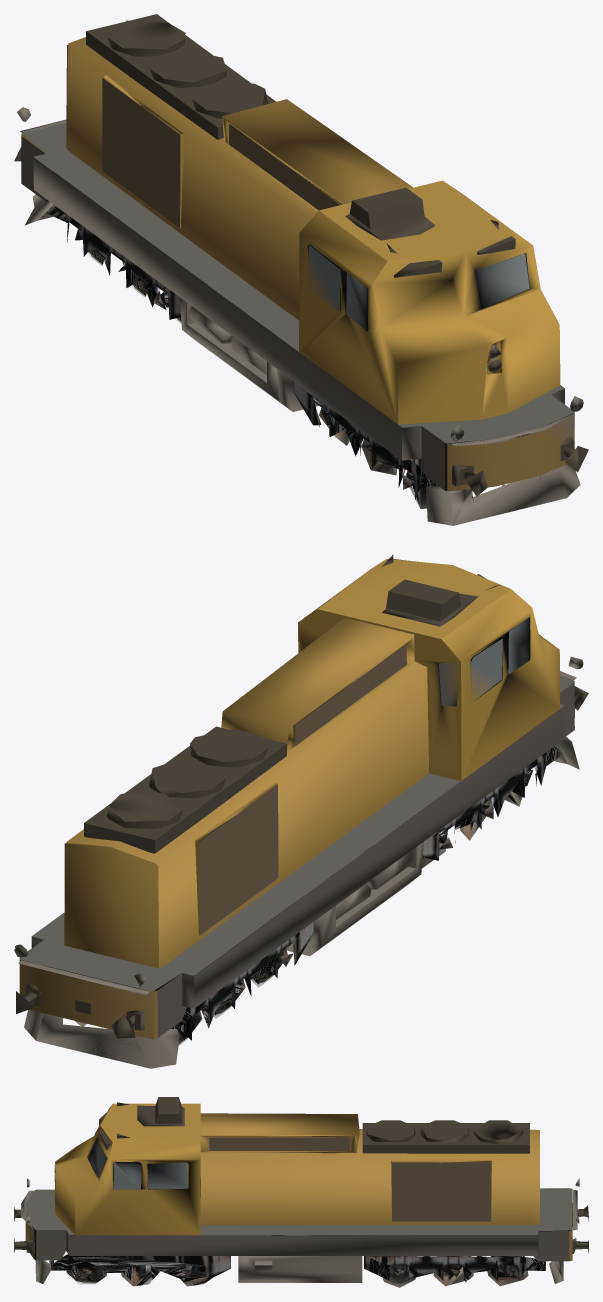
Rendered from diesel-loco.lod1.glb.
The picture shows the model from 3 angles, top to bottom: view 1: azimuth 30°, elevation 25°; view 2: azimuth 150°, elevation 25°; view 3: azimuth 270°, elevation 25°; orthographic projection. The views are drawn at different scales.
Visible parts, largest first — view 1: Object_2, Object_4; view 2: Object_2, Object_4; view 3: Object_2, Object_4.
Boxes of the visible parts, x1,y1,x2,y2 form: Object_2: [14, 14, 588, 525]; Object_4: [46, 206, 472, 508]; Object_2: [14, 554, 588, 1068]; Object_4: [74, 746, 562, 1045]; Object_2: [14, 1097, 588, 1283]; Object_4: [49, 1254, 545, 1287].
Bounding box in the file's own units: 3.34 × 4.94 × 15.96.
2 materials, 1 textured.
